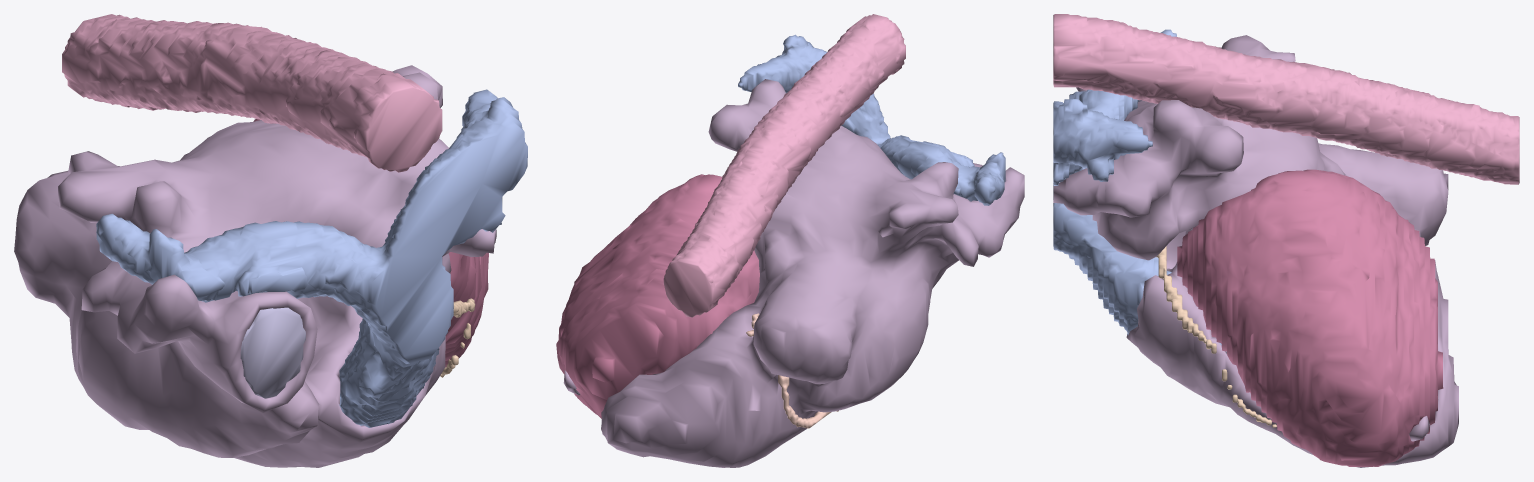
The picture shows the model from 3 angles, left to right: view 1: azimuth 30°, elevation 25°; view 2: azimuth 150°, elevation 25°; view 3: azimuth 270°, elevation 25°; orthographic projection. The views are drawn at different scales.
Parts seen in each view (by area): view 1: heart-wall, pulmonary-artery, aorta, right-atrium, myocardium, left-coronary-artery; view 2: heart-wall, aorta, myocardium, pulmonary-artery, right-coronary-artery; view 3: myocardium, heart-wall, aorta, pulmonary-artery, left-coronary-artery.
Boxes of the visible parts, bbox=[...] form: heart-wall: bbox=[14, 65, 496, 467]; pulmonary-artery: bbox=[96, 89, 527, 427]; aorta: bbox=[62, 14, 442, 172]; right-atrium: bbox=[240, 307, 305, 398]; myocardium: bbox=[253, 119, 488, 367]; left-coronary-artery: bbox=[440, 298, 475, 377]; heart-wall: bbox=[563, 79, 1024, 467]; aorta: bbox=[663, 14, 905, 317]; myocardium: bbox=[556, 174, 759, 418]; pulmonary-artery: bbox=[738, 34, 1005, 205]; right-coronary-artery: bbox=[746, 313, 838, 428]; myocardium: bbox=[1177, 169, 1443, 466]; heart-wall: bbox=[1053, 35, 1458, 467]; aorta: bbox=[1053, 14, 1519, 184]; pulmonary-artery: bbox=[1053, 29, 1176, 335]; left-coronary-artery: bbox=[1156, 246, 1276, 427].
Bounding box in the file's own units: 138 × 132 × 142.
